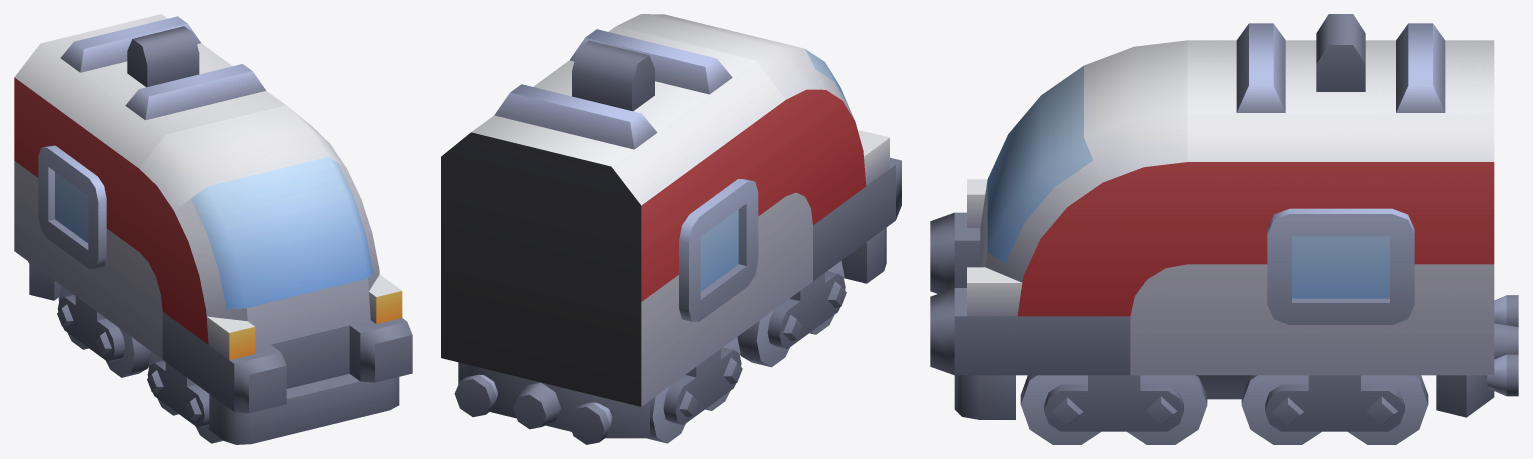
The model's file is train-electric-city-a.glb.
3 renders of one model, left to right at view 1: azimuth 30°, elevation 25°; view 2: azimuth 150°, elevation 25°; view 3: azimuth 270°, elevation 25°, orthographic. The views are drawn at different scales.
Visible parts, largest first — view 1: train-electric-city-a; view 2: train-electric-city-a; view 3: train-electric-city-a.
Part boxes in pixels (left/top/right/bottom): train-electric-city-a: left=14, top=14, right=412, bottom=444; train-electric-city-a: left=441, top=14, right=901, bottom=444; train-electric-city-a: left=930, top=14, right=1518, bottom=444.
Bounding box in the file's own units: 1.1 × 1.68 × 2.4.
Materials: 1 (1 with a texture image).
